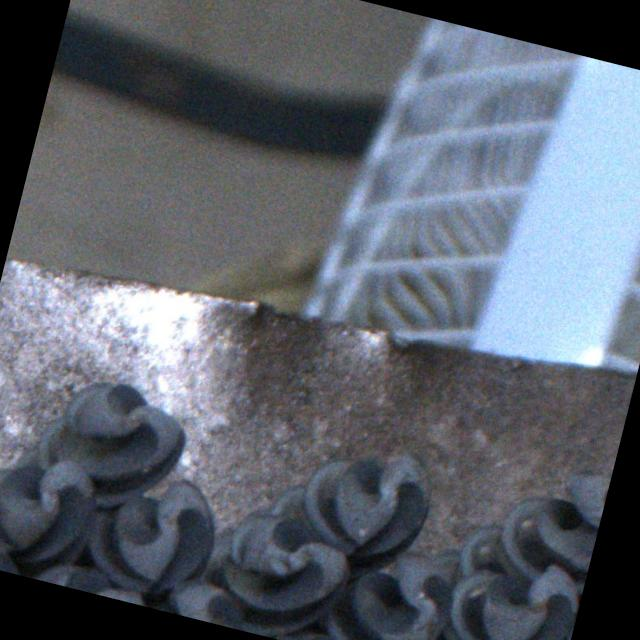tool_b: (11, 360, 197, 521), (265, 422, 441, 572), (190, 497, 357, 640), (79, 460, 227, 606), (490, 456, 610, 592), (0, 440, 103, 588), (437, 540, 587, 640), (320, 538, 461, 640)
